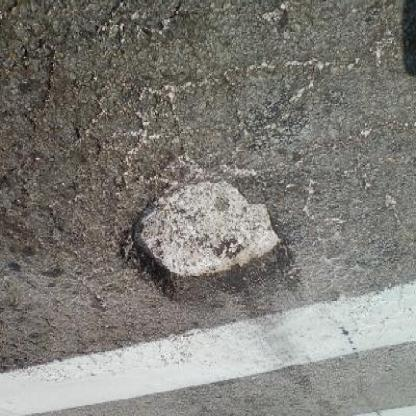pothole: (119, 172, 295, 308)
